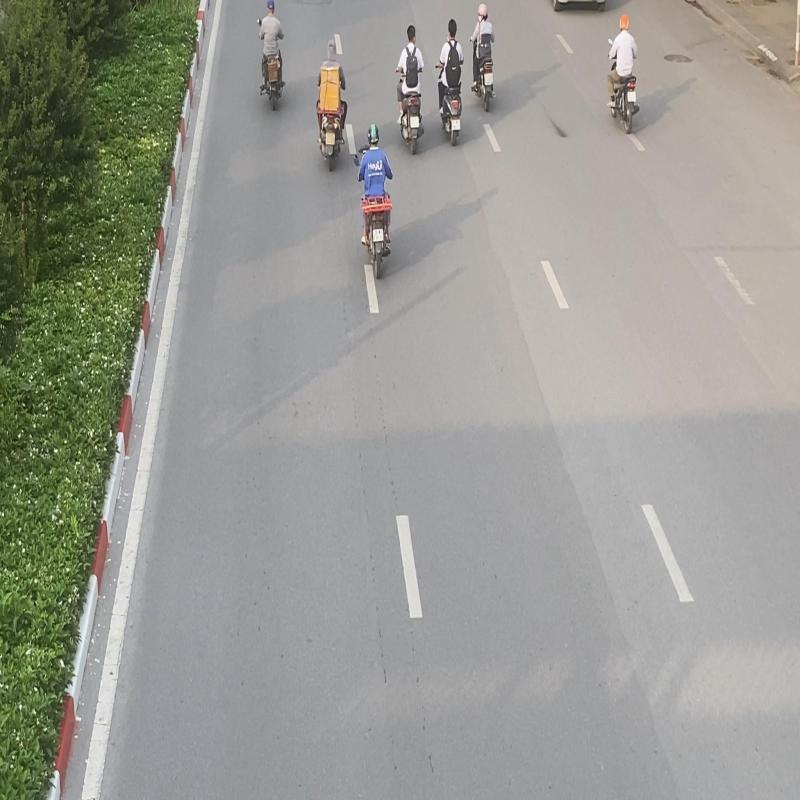helmet: (368, 123, 380, 148), (478, 3, 488, 20)
licenseplate: (372, 228, 384, 242), (411, 116, 420, 128), (484, 73, 493, 85), (451, 119, 460, 130)
motorcyclist: (352, 123, 392, 280), (395, 24, 425, 157), (436, 18, 464, 146), (256, 0, 286, 110), (469, 2, 496, 115)
nohelmet: (448, 18, 458, 38), (407, 25, 416, 44), (266, 2, 274, 16)
